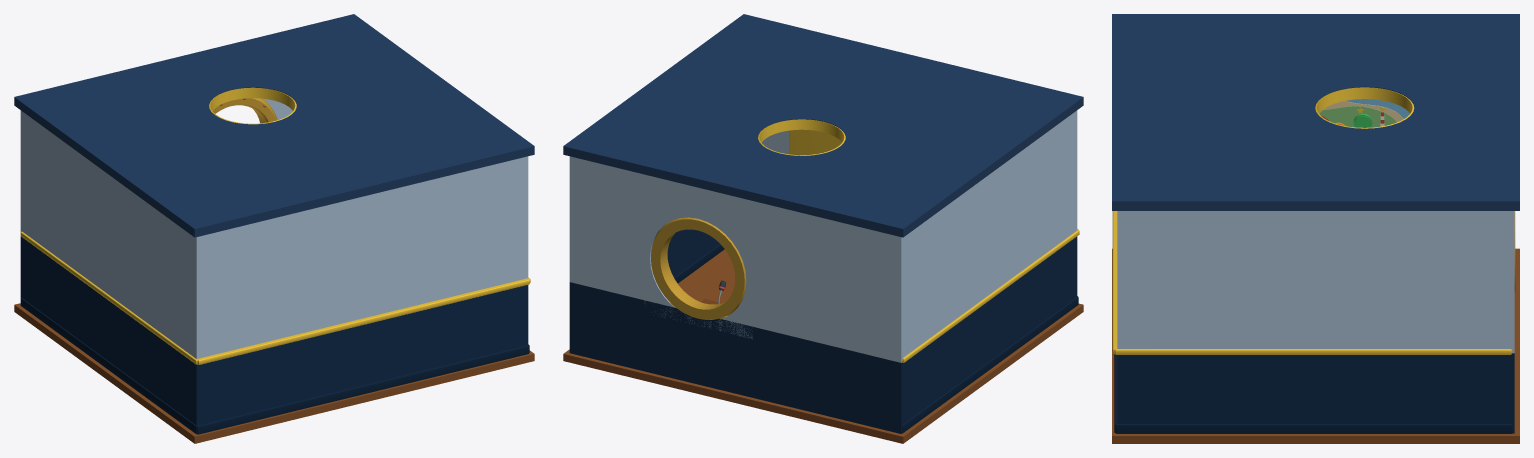
Rendered from farol7_room.glb.
The picture shows the model from 3 angles, left to right: view 1: azimuth 30°, elevation 25°; view 2: azimuth 150°, elevation 25°; view 3: azimuth 270°, elevation 25°; orthographic projection. The views are drawn at different scales.
Parts seen in each view (by area): view 1: Farol7_Room; view 2: Farol7_Room; view 3: Farol7_Room.
Part boxes in pixels (left/top/right/bottom): Farol7_Room: left=14, top=14, right=534, bottom=443; Farol7_Room: left=563, top=14, right=1083, bottom=443; Farol7_Room: left=1112, top=14, right=1519, bottom=443.
Size of the model in its own units: 5 by 3.02 by 4.6.
